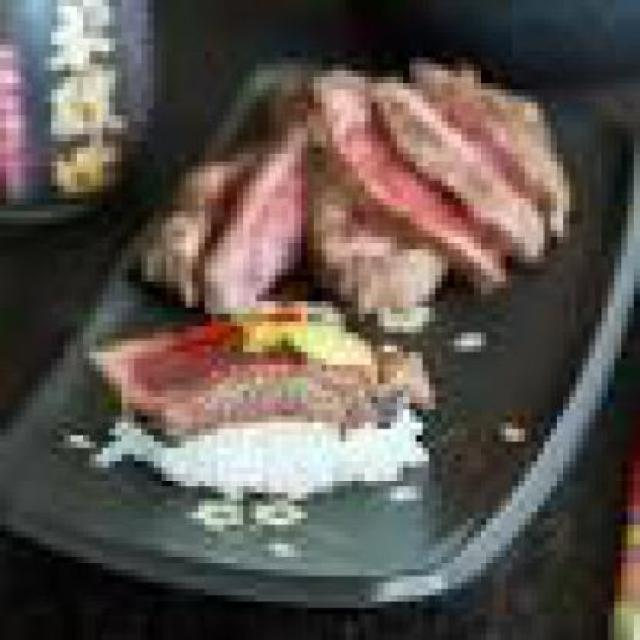-: (96, 308, 422, 486)
steak: (147, 31, 519, 404)
